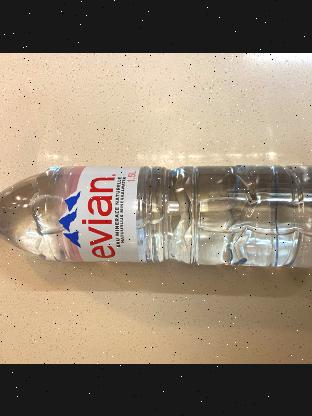Plastic Bottle: (0, 155, 312, 284)
